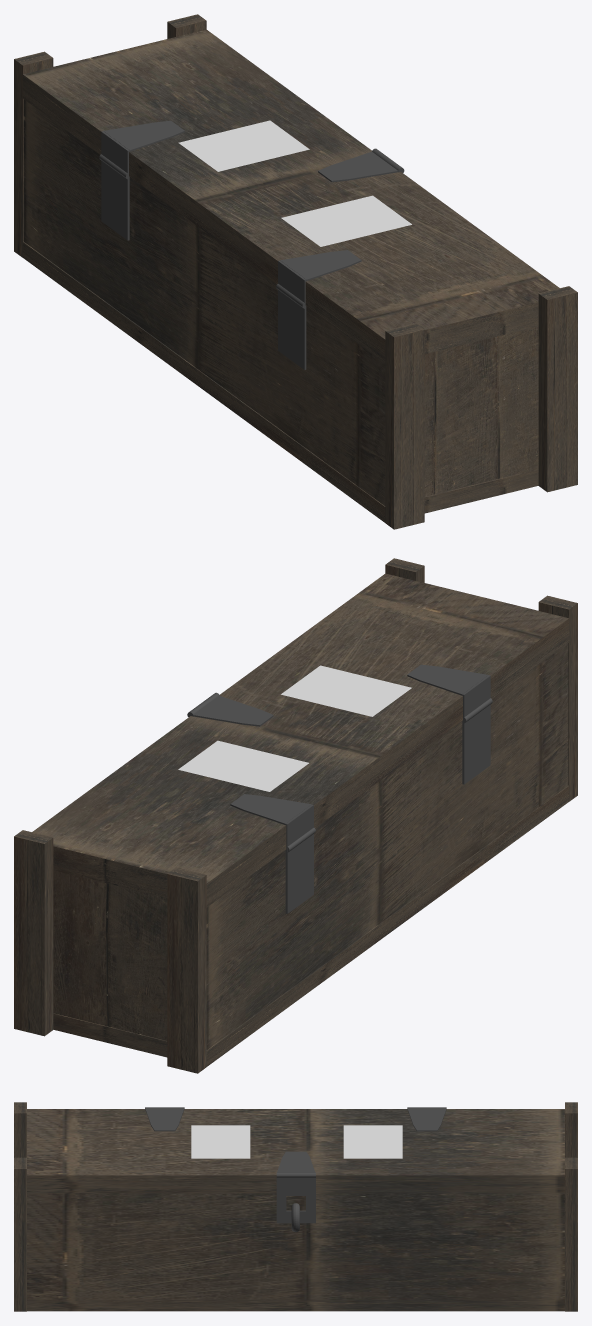
Rendered from mystery_box.fbx.
The picture shows the model from 3 angles, top to bottom: view 1: azimuth 30°, elevation 25°; view 2: azimuth 150°, elevation 25°; view 3: azimuth 270°, elevation 25°; orthographic projection. The views are drawn at different scales.
Parts seen in each view (by area): view 1: Lid, Back, Left, Base, Left Slab 1, Left Slab 2, Question Mark 2, Question Mark 1, Right Slab 1, Right Hinge, Left Hinge, Rear Hinge 1 (+3 smaller); view 2: Lid, Back, Right, Base, Right Slab 1, Right Slab 2, Question Mark 1, Question Mark 2, Left Slab 1, Left Hinge, Right Hinge, Rear Hinge 2 (+3 smaller); view 3: Front, Lid, Base, Lock Hinge, Question Mark 1, Question Mark 2, Left Slab 2, Right Slab 2, Right Hinge, Left Hinge, Left Slab 1, Right Slab 1.
Boxes of the visible parts, x1,y1,x2,y2 form: Lid: [22, 29, 559, 363]; Back: [23, 99, 385, 505]; Left: [424, 326, 538, 496]; Base: [22, 241, 538, 522]; Left Slab 1: [385, 323, 424, 529]; Left Slab 2: [538, 286, 577, 492]; Question Mark 2: [178, 120, 309, 171]; Question Mark 1: [281, 195, 411, 246]; Right Slab 1: [14, 51, 53, 257]; Right Hinge: [278, 250, 361, 308]; Left Hinge: [101, 120, 184, 173]; Rear Hinge 1: [99, 154, 129, 240]; Lid: [32, 573, 569, 907]; Back: [206, 643, 568, 1049]; Right: [53, 870, 167, 1040]; Base: [53, 785, 569, 1066]; Right Slab 1: [167, 867, 206, 1073]; Right Slab 2: [14, 830, 53, 1036]; Question Mark 1: [281, 665, 411, 716]; Question Mark 2: [178, 740, 308, 791]; Left Slab 1: [538, 595, 577, 801]; Left Hinge: [230, 794, 313, 852]; Right Hinge: [407, 664, 490, 717]; Rear Hinge 2: [462, 698, 492, 784]; Front: [27, 1193, 564, 1299]; Lid: [27, 1109, 564, 1193]; Base: [27, 1299, 564, 1311]; Lock Hinge: [276, 1151, 315, 1223]; Question Mark 1: [191, 1125, 250, 1158]; Question Mark 2: [343, 1125, 402, 1158]; Left Slab 2: [14, 1157, 26, 1311]; Right Slab 2: [565, 1157, 577, 1311]; Right Hinge: [145, 1107, 184, 1131]; Left Hinge: [407, 1107, 446, 1131]; Left Slab 1: [14, 1102, 26, 1157]; Right Slab 1: [565, 1102, 577, 1157].
Bounding box in the file's own units: 263 × 240 × 860.
4 materials, 1 textured.
